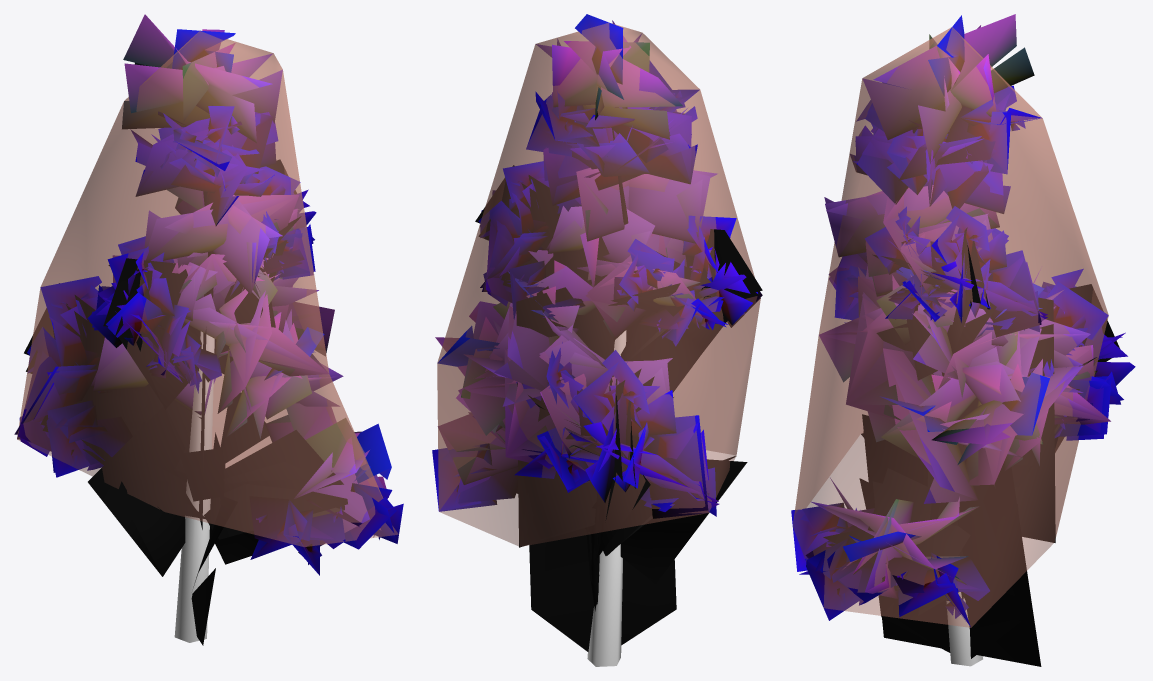
The model's file is tree_oak_sml_a.dae.
3 views of the same model, side by side, from view 1: azimuth 30°, elevation 25°; view 2: azimuth 150°, elevation 25°; view 3: azimuth 270°, elevation 25° (orthographic). The views are drawn at different scales.
Visible parts, largest first — view 1: Colmesh_small_01-1, OakSmall01_a1350, OakSmall01_a400; view 2: Colmesh_small_01-1, OakSmall01_a1350, OakSmall01_a400; view 3: Colmesh_small_01-1, OakSmall01_a1350, OakSmall01_a400.
Boxes of the visible parts, x1=… form: Colmesh_small_01-1: x1=17, y1=31, x2=398, y2=642; OakSmall01_a1350: x1=17, y1=14, x2=403, y2=645; OakSmall01_a400: x1=14, y1=111, x2=397, y2=575; Colmesh_small_01-1: x1=437, y1=23, x2=760, y2=666; OakSmall01_a1350: x1=432, y1=14, x2=760, y2=651; OakSmall01_a400: x1=435, y1=89, x2=762, y2=605; Colmesh_small_01-1: x1=793, y1=27, x2=1108, y2=666; OakSmall01_a1350: x1=791, y1=14, x2=1135, y2=658; OakSmall01_a400: x1=798, y1=83, x2=1125, y2=666.
Bounding box in the file's own units: 4.59 × 4.19 × 8.46.
